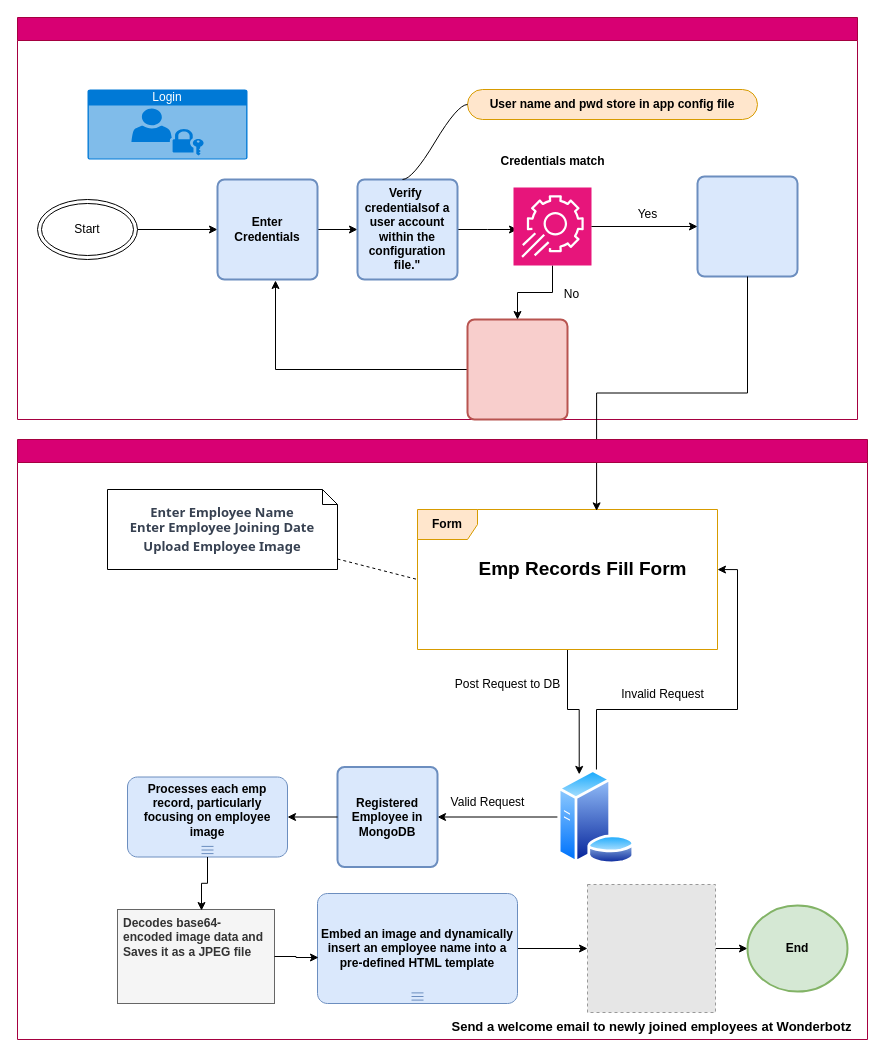
Some shapes in this 885 by 1057 pixel diagram are drawn without their labels. Grey dashed boxes stand in for pictures. The shapes that lost their labels are listed below. From the top down, each one's box as (x1, y1, x2, y2) in pixels, then its label:
(16, 16, 858, 420): Login Process
(696, 175, 798, 277): Home Page
(466, 318, 568, 420): invalid Credentials
(16, 438, 868, 1040): Employee Details Form Filling and Welcome Notification Process
